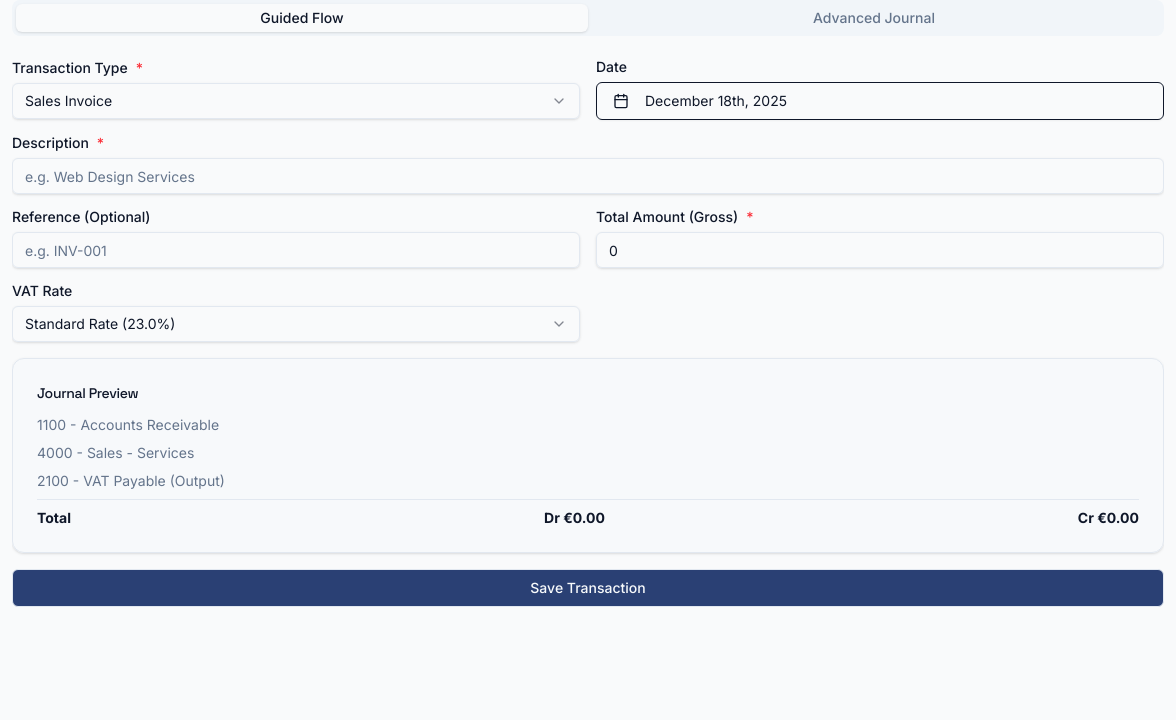
TransactionForm › shows validation error when negative amount is entered
Replace the text in the number field with test id "input-amount" with "-50": (880, 250) [596,232,1164,268]
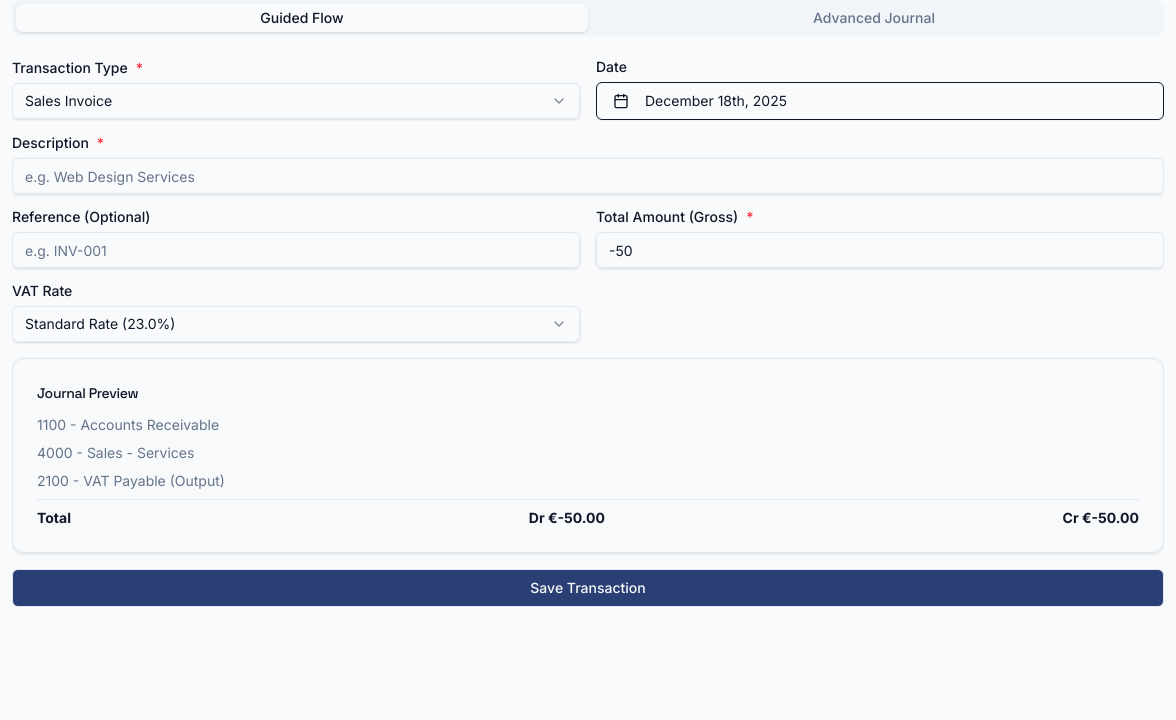
Click the button with test id "button-save-transaction": (588, 588) [12,569,1164,607]
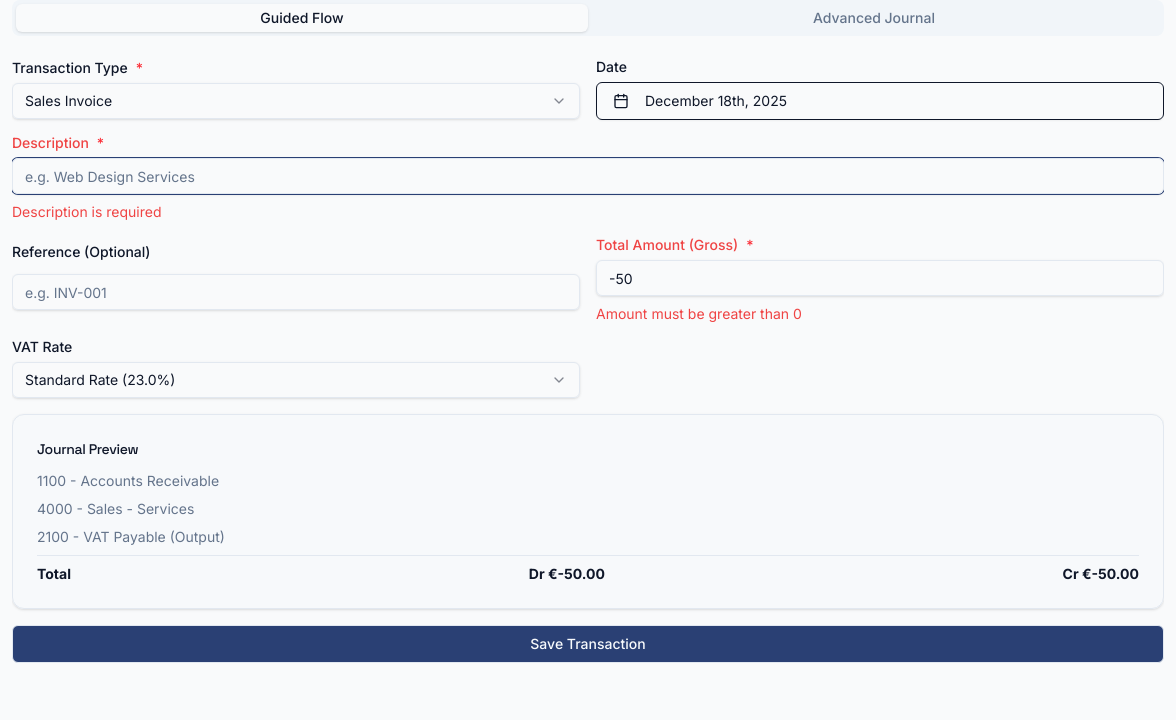
Expected: the text "Amount must be greater than 0" is shown, [596,305,802,322]
